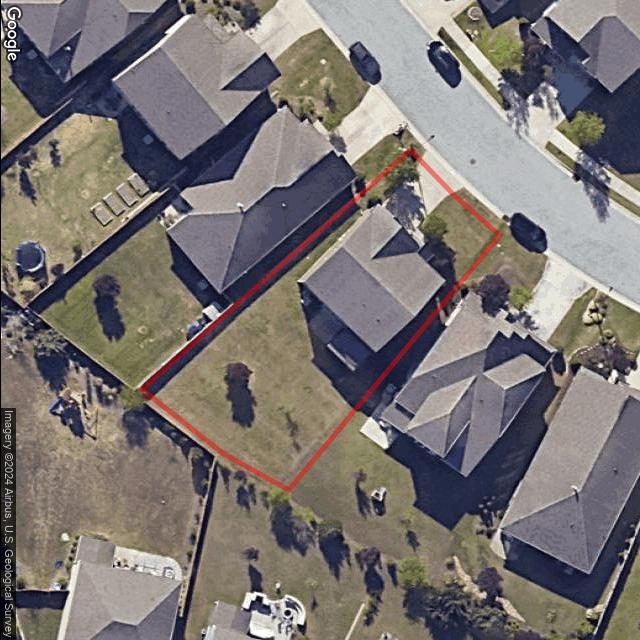Driveway: (379, 161, 452, 234)
Extra-Driveway: (420, 149, 462, 194)
Extra-Lawn: (450, 186, 507, 235), (408, 141, 425, 162)
House: (297, 203, 446, 353)
Lawn: (141, 151, 500, 492)
Other: (306, 306, 375, 372), (416, 219, 451, 282)
Sidewalk: (410, 228, 424, 250)
